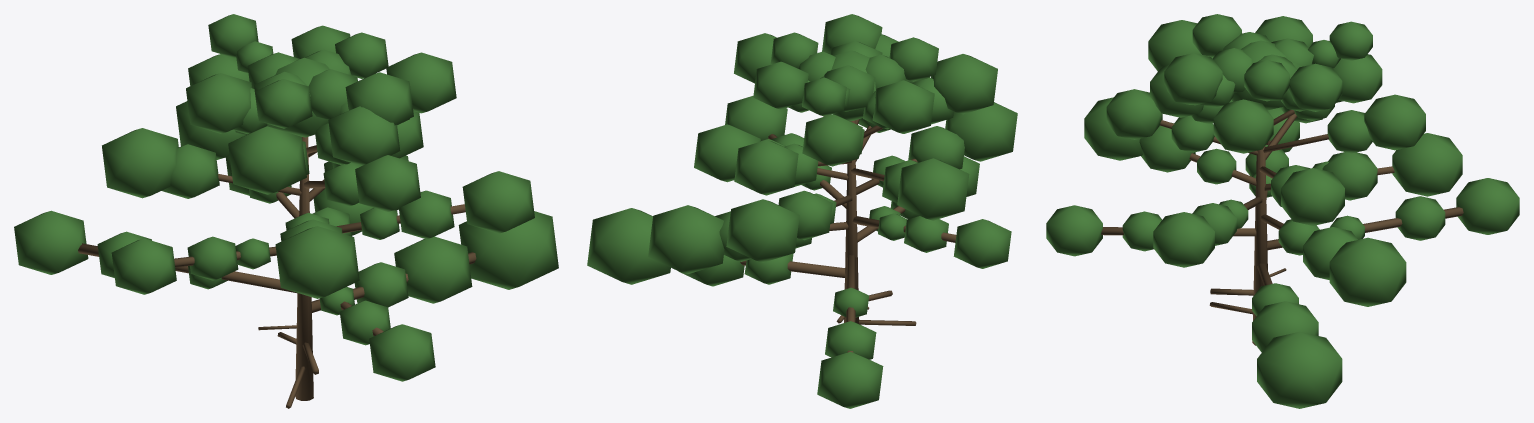
File: pine_young_sapling.glb
The picture shows the model from 3 angles, left to right: view 1: azimuth 30°, elevation 25°; view 2: azimuth 150°, elevation 25°; view 3: azimuth 270°, elevation 25°; orthographic projection. The views are drawn at different scales.
Visible parts, largest first — view 1: pine_young_sapling; view 2: pine_young_sapling; view 3: pine_young_sapling.
Boxes of the visible parts, x1,y1,x2,y2 form: pine_young_sapling: [14, 14, 558, 408]; pine_young_sapling: [587, 14, 1017, 408]; pine_young_sapling: [1046, 14, 1519, 408].
Bounding box in the file's own units: 6.5 × 4.82 × 6.62.
